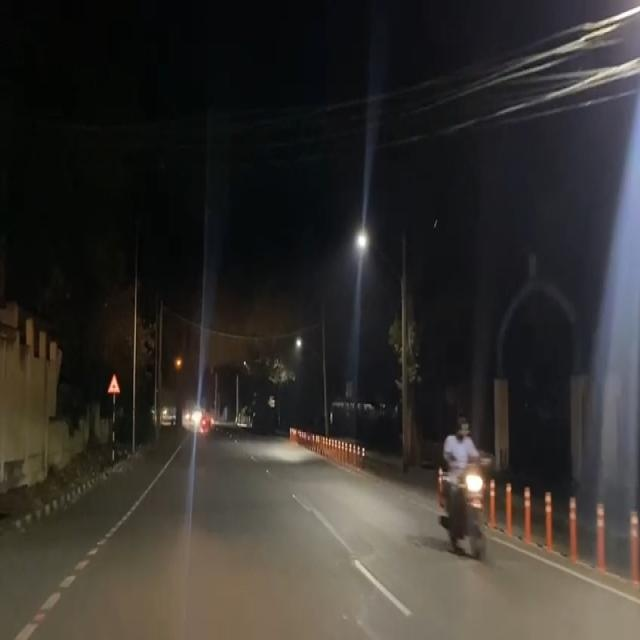bien_nguy_hiem: (106, 372, 121, 394)
